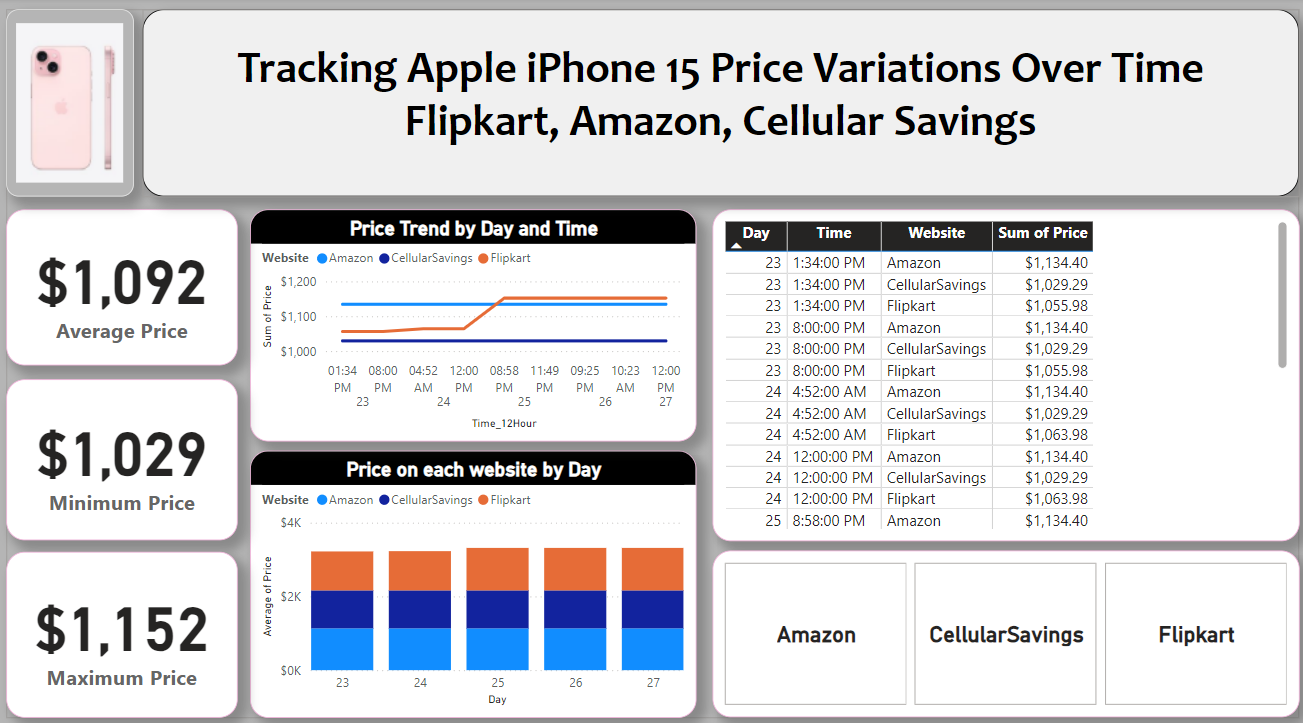

What the dashboard file says about the page in this screenshot:
{"tool":"powerbi","page":{"name":"Price Tracker","canvas":[1280,720],"ordinal":0},"visuals":[{"type":"columnChart","title":"Price on each website by Day","fields":{"Category":["price_tracker.Date.Variation.Date Hierarchy.Day","price_tracker.Time_12Hour"],"Series":["price_tracker.Website"],"Y":["Avg(price_tracker.Price)"]},"box":[244.6,442.7,436.6,261.7],"z":0,"group":"g1"},{"type":"lineChart","title":"Price Trend by Day and Time","fields":{"Category":["price_tracker.Date.Variation.Date Hierarchy.Day","price_tracker.Time_12Hour"],"Y":["Sum(price_tracker.Price)"],"Series":["price_tracker.Website"]},"box":[244.6,206.2,436.6,227.6],"z":1000,"group":"g1"},{"type":"tableEx","fields":{"Values":["price_tracker.Date.Variation.Date Hierarchy.Day","price_tracker.Time","price_tracker.Website","Sum(price_tracker.Price)"]},"box":[696.8,206.3,574.2,324.6],"z":2000,"group":"g1"},{"type":"card","fields":{"Values":["Avg(price_tracker.Price)"]},"box":[6.1,206.7,226.2,152.9],"z":3000,"group":"g1"},{"type":"card","fields":{"Values":["Min(price_tracker.Price)"]},"box":[6.1,373,226.2,157.7],"z":4000,"group":"g1"},{"type":"card","fields":{"Values":["Max(price_tracker.Price)"]},"box":[6.1,541.7,226.2,162.6],"z":5000,"group":"g1"},{"type":"image","box":[6.1,11,124.7,183.4],"z":6000,"group":"g1"},{"type":"textbox","box":[139.4,11,1131.1,183.4],"z":8000,"group":"g1"},{"type":"advancedSlicerVisual","fields":{"Values":["price_tracker.Website"]},"box":[696.8,541,574.2,163],"z":9000,"group":"g1"},{"type":"group","id":"g1","title":"Group 1","box":[6.1,11,1265,693.3],"z":9001}]}

Visuals, with their boxes in screenshot pixels (x1, y1, x2, y2), scaled from the page's 1280x720 canvas onto the 1303x723 screenshot:
"Price on each website by Day" columnChart: left=249, top=445, right=693, bottom=707
"Price Trend by Day and Time" lineChart: left=249, top=207, right=693, bottom=436
tableEx - price_tracker.Date.Variation.Date Hierarchy.Day x price_tracker.Time: left=709, top=207, right=1294, bottom=533
card - Avg(price_tracker.Price): left=6, top=208, right=236, bottom=361
card - Min(price_tracker.Price): left=6, top=375, right=236, bottom=533
card - Max(price_tracker.Price): left=6, top=544, right=236, bottom=707
image: left=6, top=11, right=133, bottom=195
textbox: left=142, top=11, right=1293, bottom=195
advancedSlicerVisual - price_tracker.Website: left=709, top=543, right=1294, bottom=707
"Group 1" group: left=6, top=11, right=1294, bottom=707
